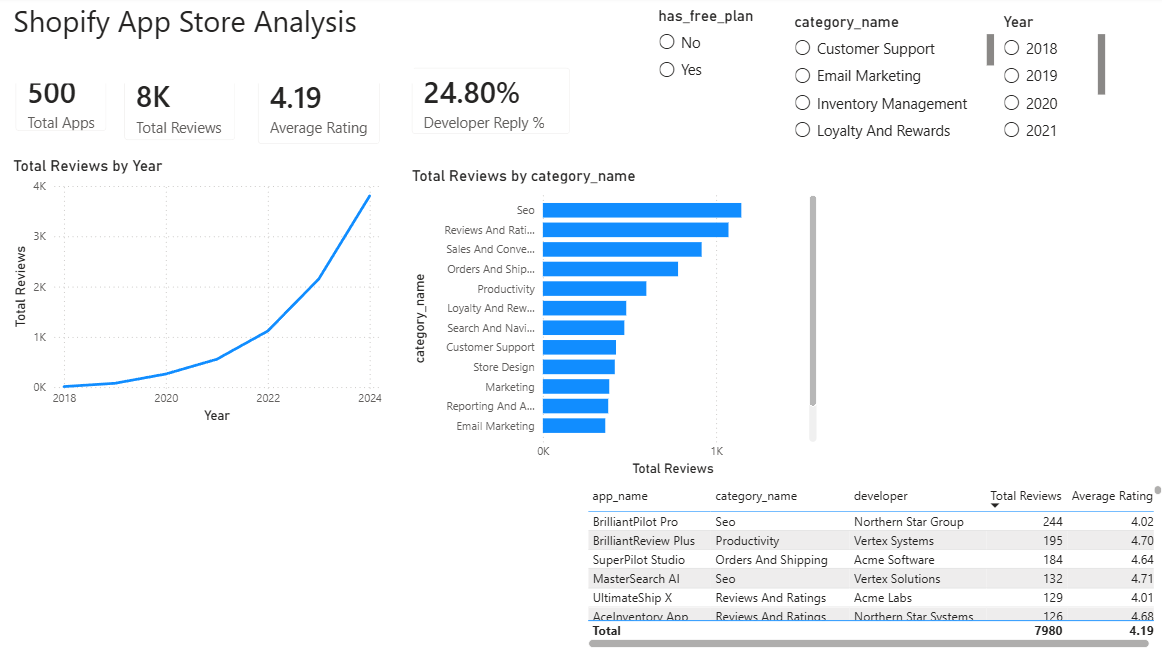

This screenshot's page, from the dashboard's own definition file:
{"tool":"powerbi","page":{"name":"Overview","canvas":[1280,720],"ordinal":0},"visuals":[{"type":"cardVisual","fields":{"Data":["reviews.Total Apps"]},"box":[0,64.5,134.5,101.5],"z":0},{"type":"cardVisual","fields":{"Data":["reviews.Total Reviews"]},"box":[119.4,64.5,156.4,111.1],"z":1000},{"type":"cardVisual","fields":{"Data":["reviews.Average Rating"]},"box":[266.2,61.7,168.8,118],"z":2000},{"type":"cardVisual","fields":{"Data":["reviews.Developer Reply %"]},"box":[435,61.7,208.6,107],"z":3000},{"type":"textbox","box":[9.6,0,444.6,96.1],"z":4000},{"type":"lineChart","fields":{"Category":["dim_date.Date.Variation.Date Hierarchy.Year","dim_date.Date.Variation.Date Hierarchy.Quarter","dim_date.Date.Variation.Date Hierarchy.Month","dim_date.Date.Variation.Date Hierarchy.Day"],"Y":["reviews.Total Reviews"]},"box":[9.6,175.6,414.4,297.8],"z":5000},{"type":"clusteredBarChart","fields":{"Category":["apps.category_name"],"Y":["reviews.Total Reviews"]},"box":[447.3,186.6,454.2,345.8],"z":6000},{"type":"listSlicer","fields":{"Values":["apps.category_name"]},"box":[867.2,17.8,229.2,150.9],"z":7000},{"type":"listSlicer","fields":{"Values":["dim_date.Year"]},"box":[1096.4,17.8,122.1,148.2],"z":8000},{"type":"listSlicer","fields":{"Values":["apps.has_free_plan"]},"box":[717.7,11,149.6,101.5],"z":9000},{"type":"tableEx","fields":{"Values":["apps.app_name","apps.category_name","apps.developer","reviews.Total Reviews","reviews.Average Rating"]},"box":[639.5,532.4,640.8,188],"z":10000}]}

Visuals, with their boxes in screenshot pixels (x1, y1, x2, y2), scaled from the page's 1280x720 canvas onto the 1162x648 screenshot:
cardVisual - reviews.Total Apps: [left=0, top=58, right=122, bottom=149]
cardVisual - reviews.Total Reviews: [left=108, top=58, right=250, bottom=158]
cardVisual - reviews.Average Rating: [left=242, top=56, right=395, bottom=162]
cardVisual - reviews.Developer Reply %: [left=395, top=56, right=584, bottom=152]
textbox: [left=9, top=0, right=412, bottom=86]
lineChart - dim_date.Date.Variation.Date Hierarchy.Year x dim_date.Date.Variation.Date Hierarchy.Quarter: [left=9, top=158, right=385, bottom=426]
clusteredBarChart - apps.category_name x reviews.Total Reviews: [left=406, top=168, right=818, bottom=479]
listSlicer - apps.category_name: [left=787, top=16, right=995, bottom=152]
listSlicer - dim_date.Year: [left=995, top=16, right=1106, bottom=149]
listSlicer - apps.has_free_plan: [left=652, top=10, right=787, bottom=101]
tableEx - apps.app_name x apps.category_name: [left=581, top=479, right=1161, bottom=647]
